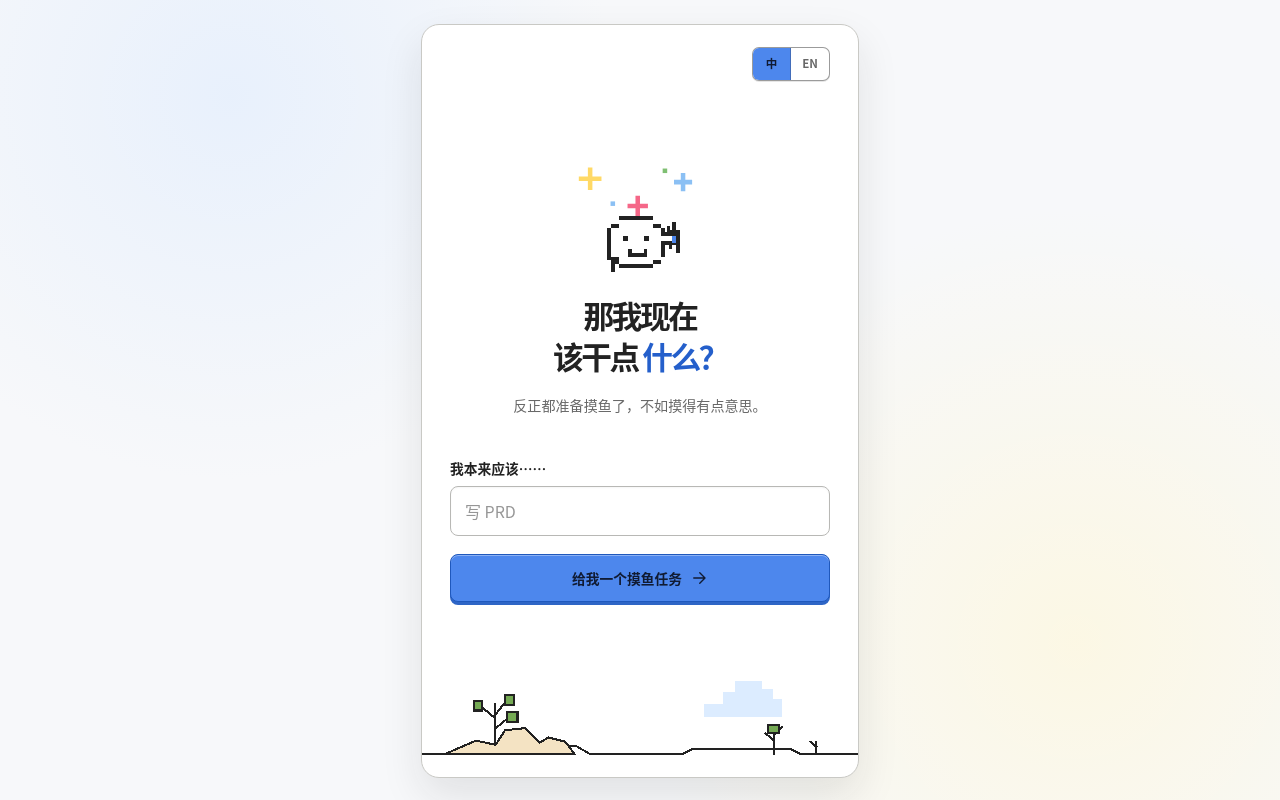
Scenario: main escape flow › starts in Chinese and validates an empty task
The image size is (1280, 800).
Click the button "给我一个摸鱼任务" at (640, 578), box [450,554,830,602]
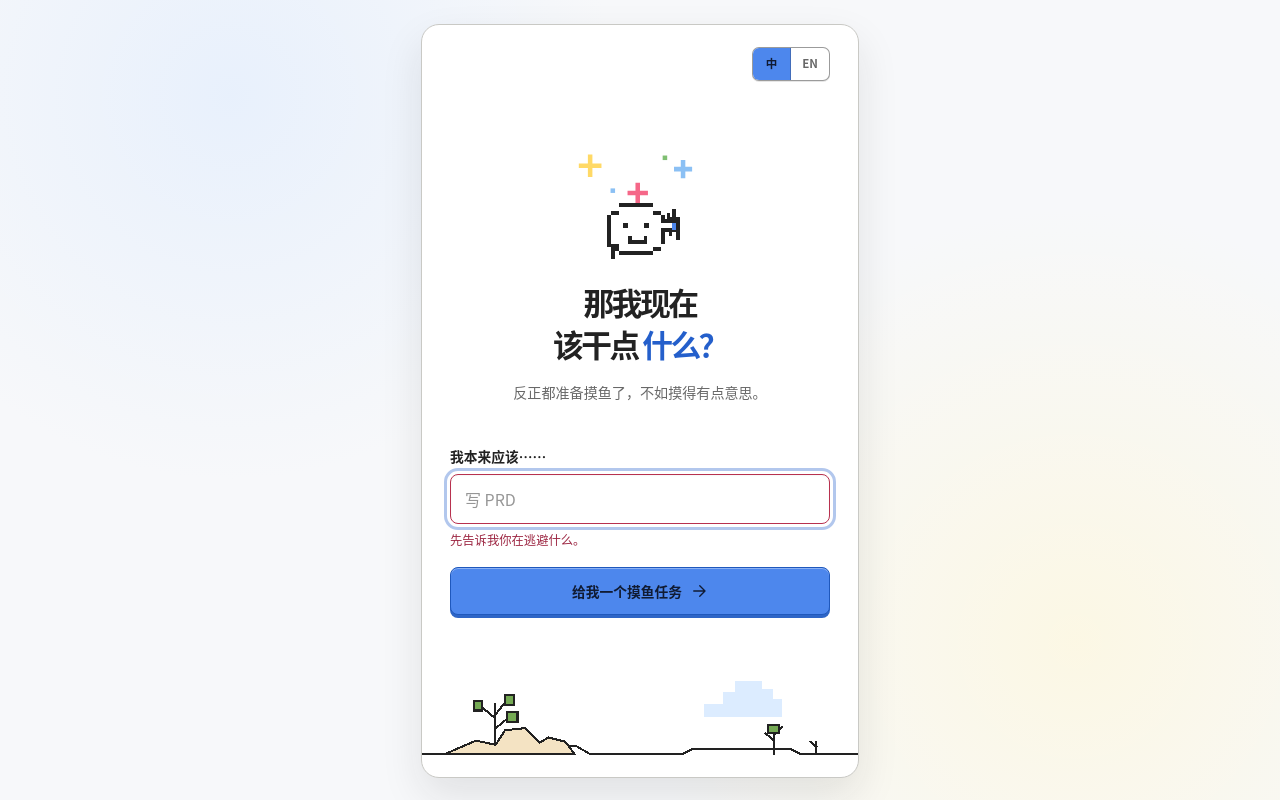
Expected: the message reads "先告诉我你在逃避什么。", [450,531,585,549]
